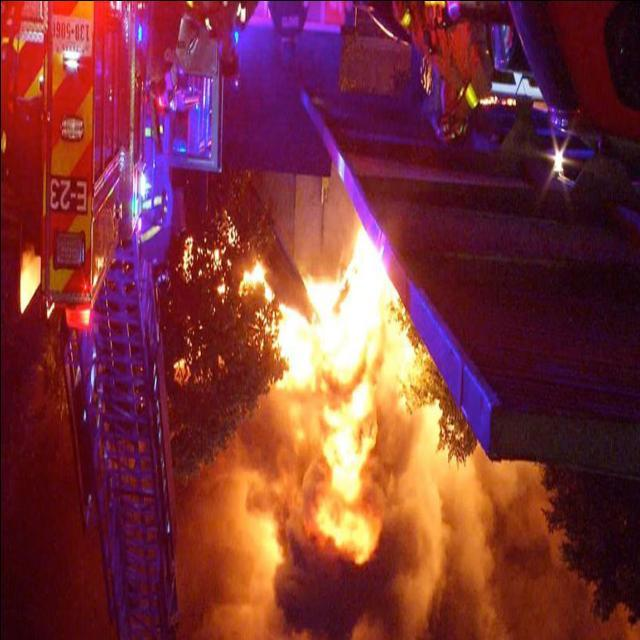Fire: (239, 218, 436, 594)
